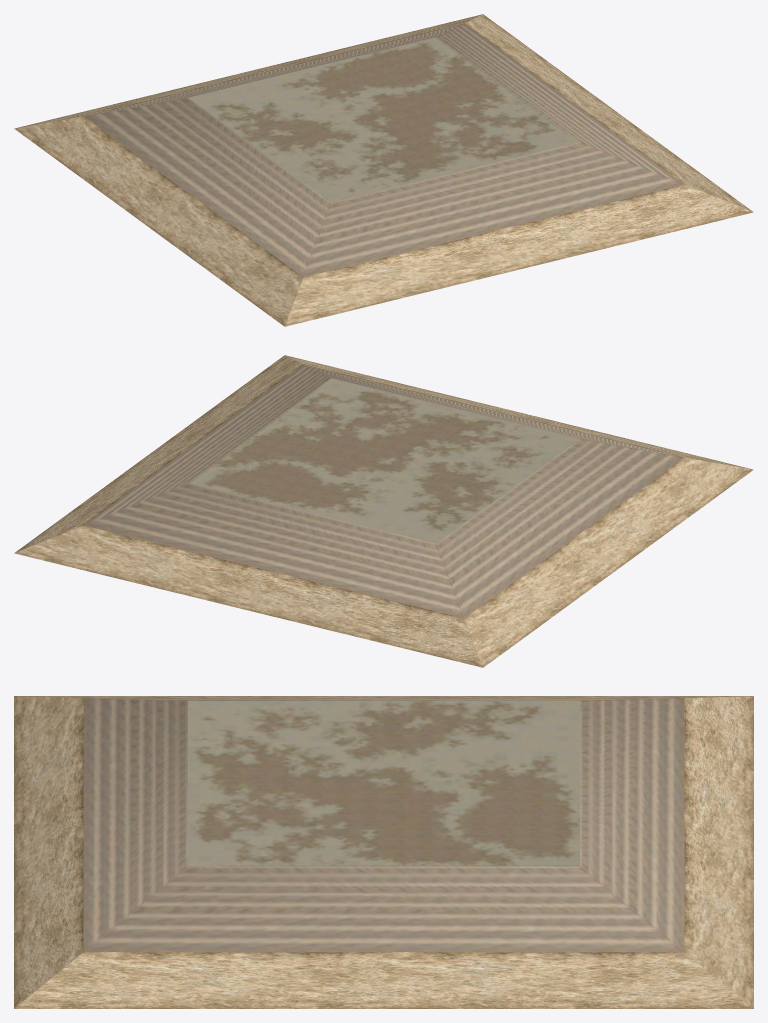
The model's file is ply_tato_garden_lrg_s01_l2.fbx.
3 views of the same model, one above another, from view 1: azimuth 30°, elevation 25°; view 2: azimuth 150°, elevation 25°; view 3: azimuth 270°, elevation 25° (orthographic). The views are drawn at different scales.
Parts seen in each view (by area): view 1: mesh_node; view 2: mesh_node; view 3: mesh_node.
Part boxes in pixels (x1,y1,x2,y2): mesh_node: (14,14,753,326); mesh_node: (14,355,753,667); mesh_node: (14,696,753,1008).
Size of the model in its own units: 49.09 by 5.05 by 49.07.
